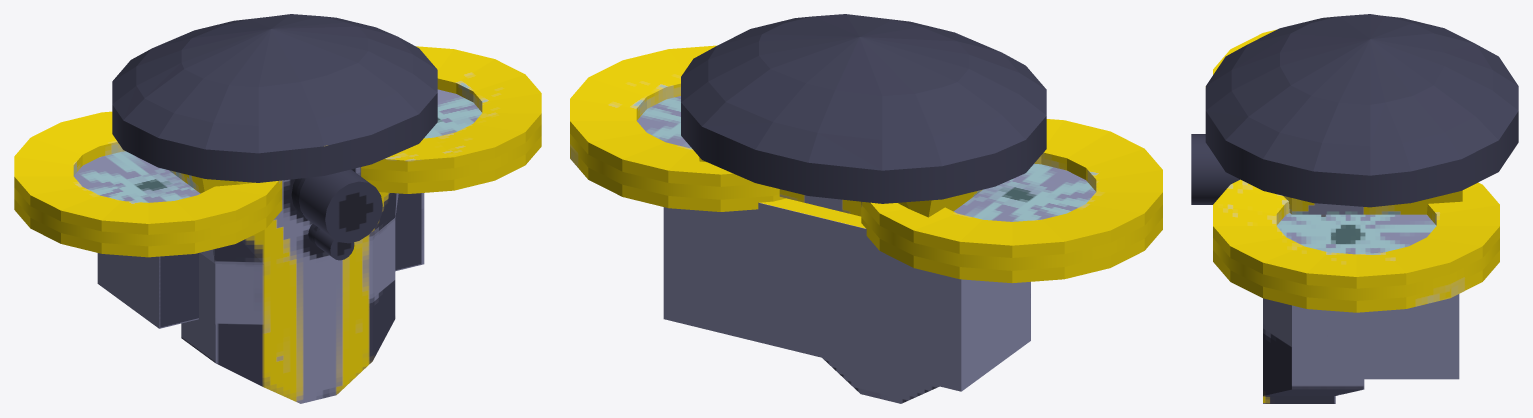
File: drone.glb
The picture shows the model from 3 angles, left to right: view 1: azimuth 30°, elevation 25°; view 2: azimuth 150°, elevation 25°; view 3: azimuth 270°, elevation 25°; orthographic projection. The views are drawn at different scales.
Parts seen in each view (by area): view 1: drone; view 2: drone; view 3: drone.
Boxes of the visible parts, x1=… form: drone: x1=14, y1=14, x2=541, y2=403; drone: x1=570, y1=14, x2=1162, y2=403; drone: x1=1191, y1=14, x2=1518, y2=403.
Bounding box in the file's own units: 2.93 × 1.89 × 1.57.
1 material, 1 textured.
